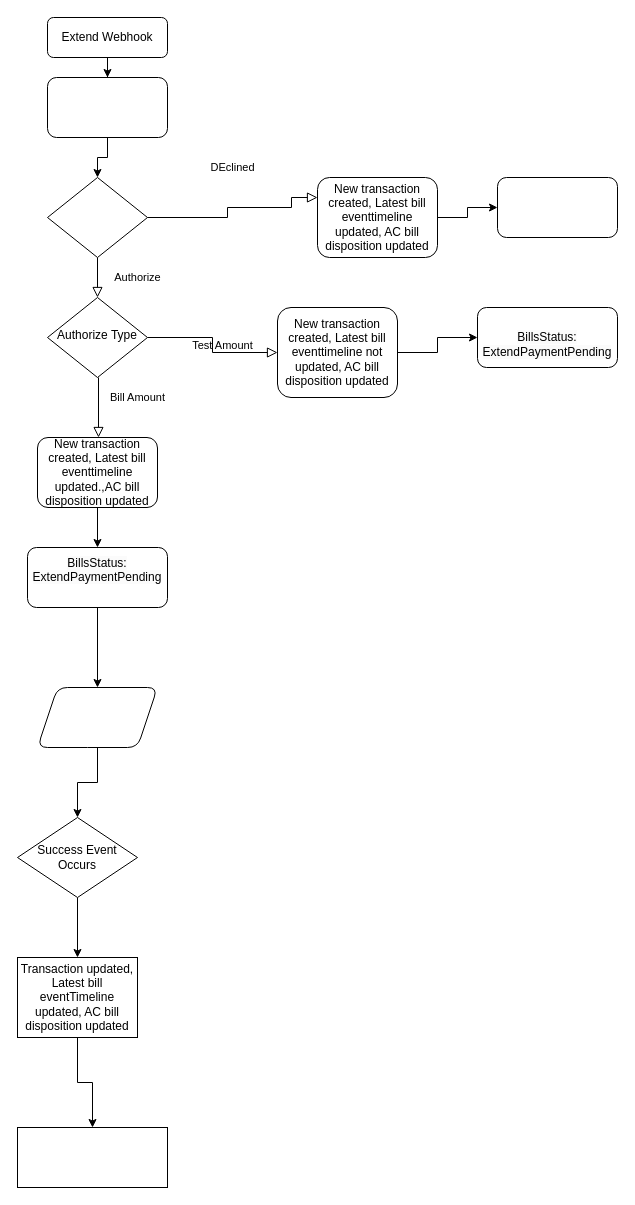
Image size: 635x1205. Some labels were removed from this diagram. Here are the shapes that lost their labels. From the top down, the box of each, then its label:
(46, 76, 168, 138): Handled in Payment Repo
(46, 176, 148, 258): Event Type
(496, 176, 618, 238): BillsStatus: ExtendPaymentFailed
(36, 686, 158, 748): Wait for Extend Success Event
(16, 1126, 168, 1188): BillsStatus: ExtendPaymentSuccess
